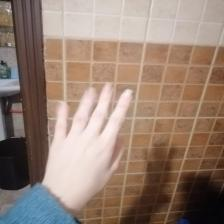four: (46, 82, 138, 199)
